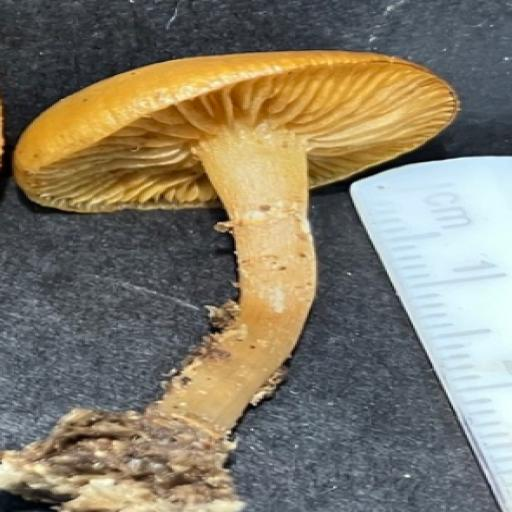Funeral Bell: (9, 46, 464, 436)
